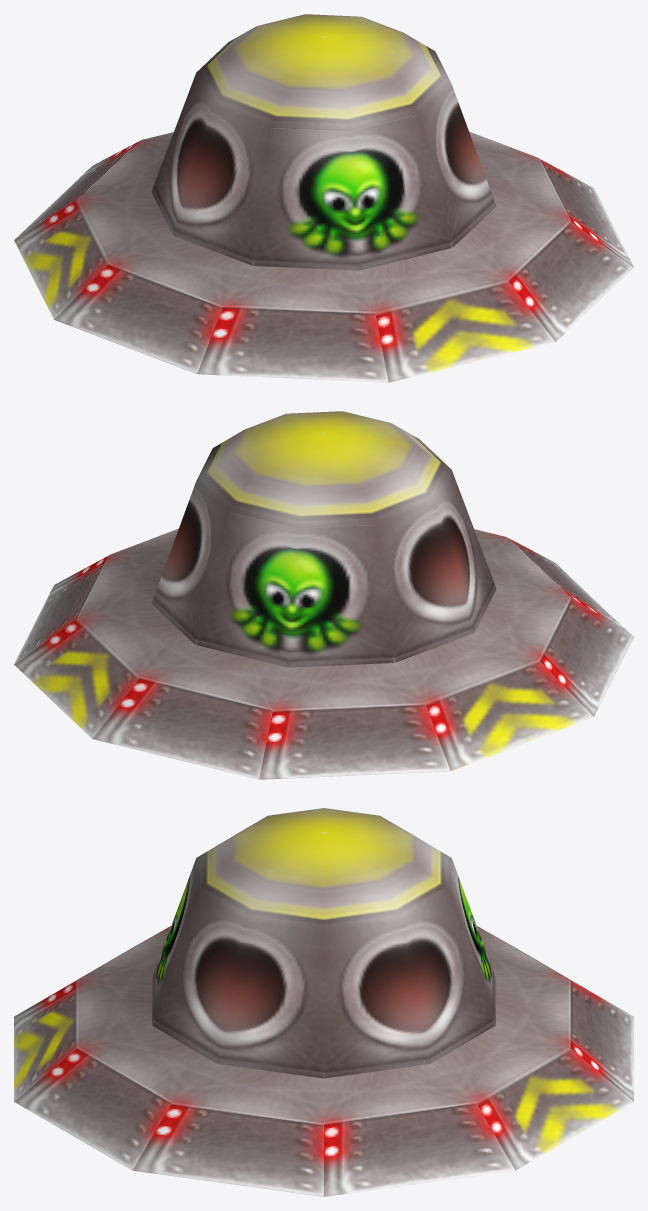
Rendered from Object_UFO.FBX.
3 renders of one model, top to bottom at view 1: azimuth 30°, elevation 25°; view 2: azimuth 150°, elevation 25°; view 3: azimuth 270°, elevation 25°, orthographic. The views are drawn at different scales.
Visible parts, largest first — view 1: UFO; view 2: UFO; view 3: UFO.
Part boxes in pixels (x1,y1,x2,y2): UFO: (14, 14, 633, 382); UFO: (14, 411, 633, 779); UFO: (14, 808, 633, 1196).
Bounding box in the file's own units: 139 × 65.02 × 132.
